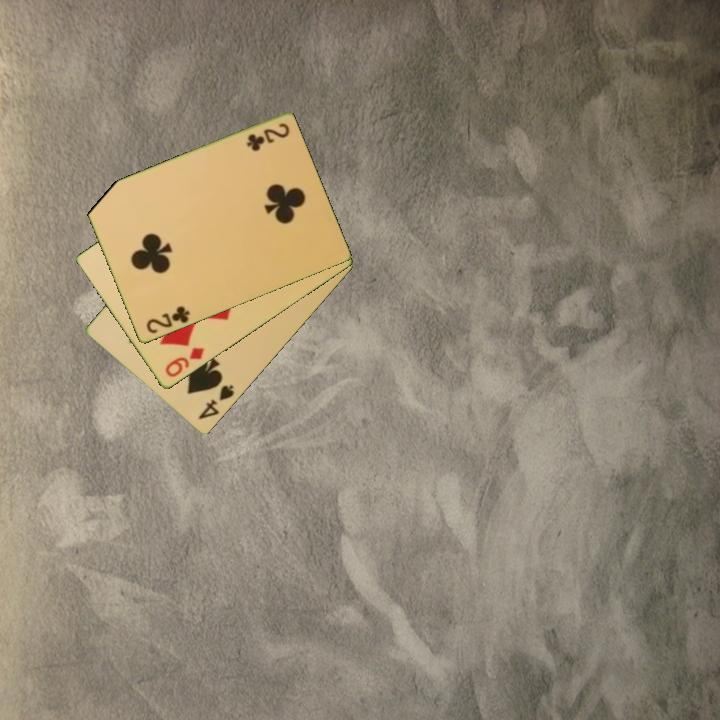2c: (143, 303, 193, 337), (243, 120, 292, 153)
4s: (195, 381, 237, 423)
9d: (161, 344, 208, 381)
